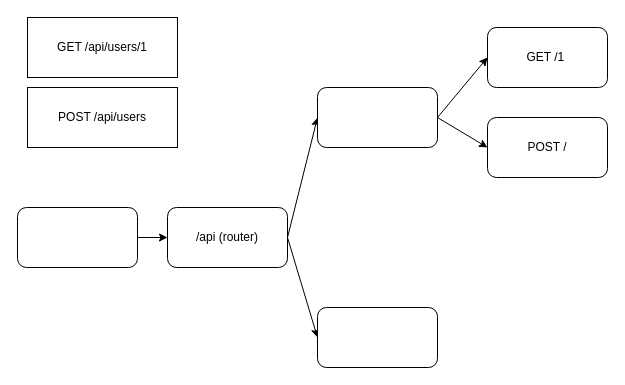
Image size: 625x385. Some labels were removed from this diagram. Here are the shapes that lost their labels. From the top down, the box of each, then its label:
(316, 86, 438, 148): /users (usersRouter)
(16, 206, 138, 268): (app)
(316, 306, 438, 368): /tasks (tasksRouter)
